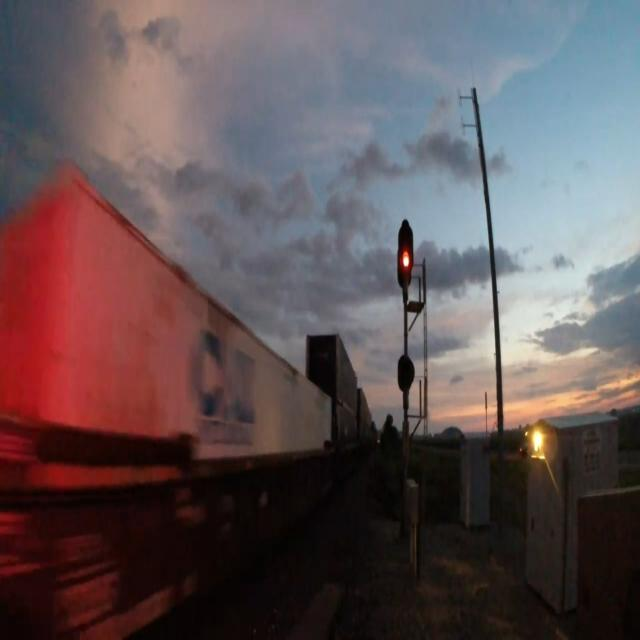container: (0, 147, 339, 475)
flatcar: (5, 411, 345, 639)
